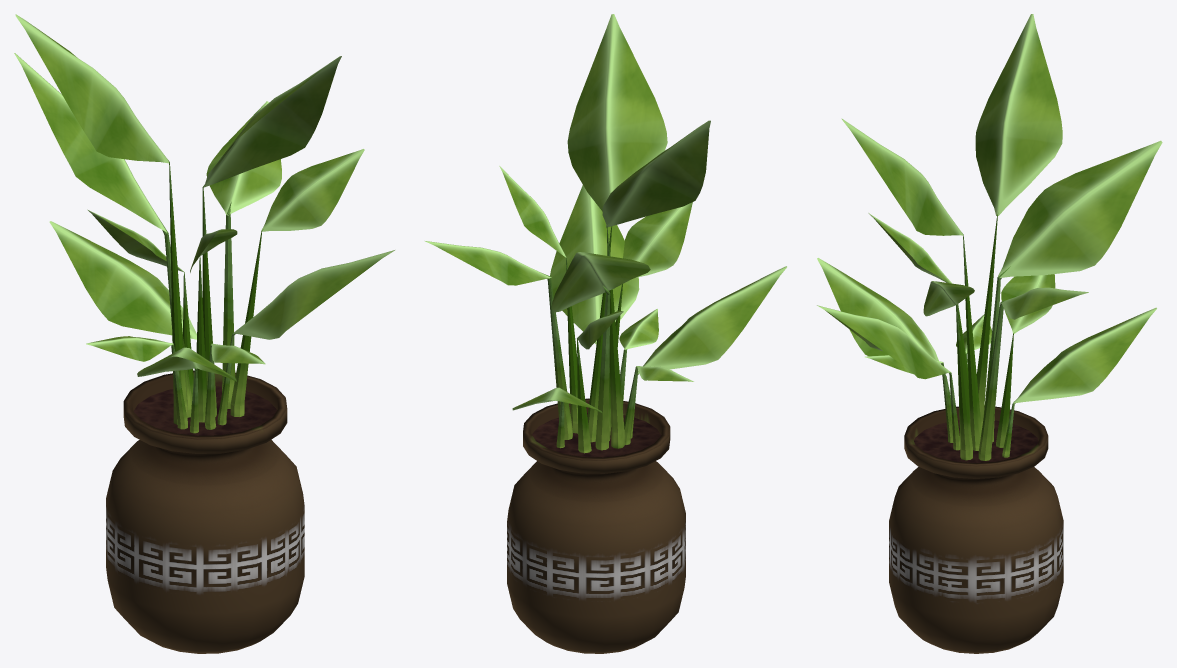
Rendered from plantFloor_textured.fbx.
3 renders of one model, left to right at view 1: azimuth 30°, elevation 25°; view 2: azimuth 150°, elevation 25°; view 3: azimuth 270°, elevation 25°, orthographic. The views are drawn at different scales.
Visible parts, largest first — view 1: plantFloor; view 2: plantFloor; view 3: plantFloor.
Boxes of the visible parts, left/top/right/bottom form: plantFloor: left=14, top=14, right=394, bottom=653; plantFloor: left=425, top=14, right=786, bottom=653; plantFloor: left=817, top=14, right=1162, bottom=653.
Size of the model in its own units: 13072 by 26854 by 15337.
1 material, 1 textured.
